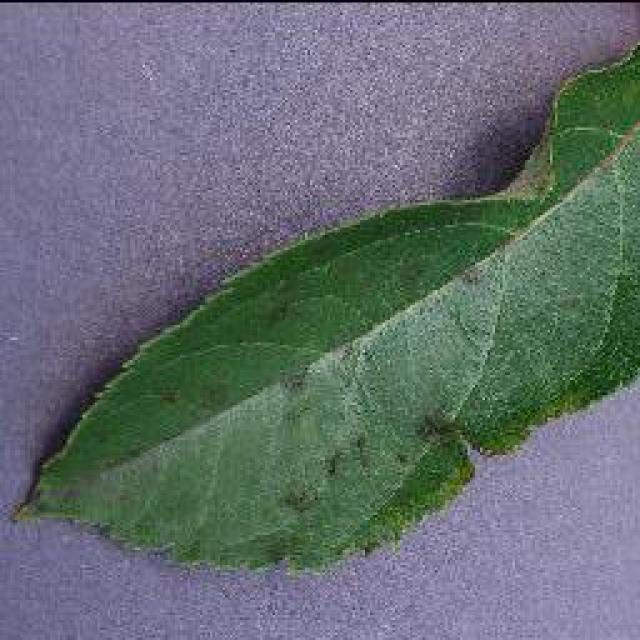apple scab disease: (10, 0, 638, 578)
